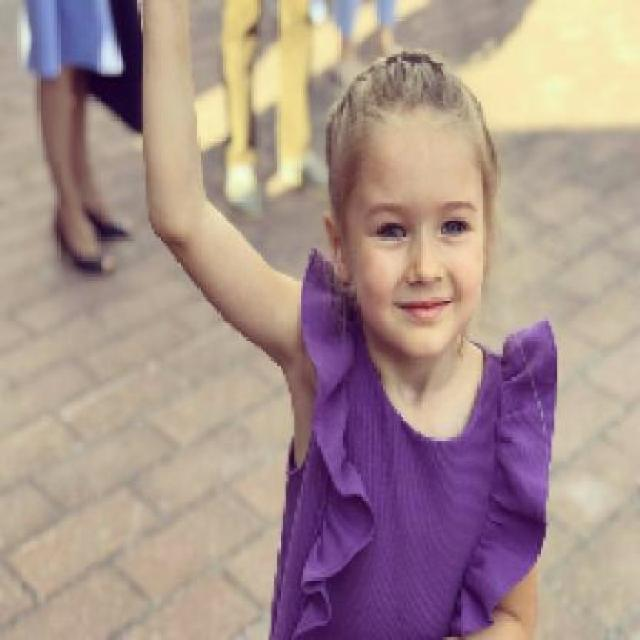child: (140, 0, 563, 637)
